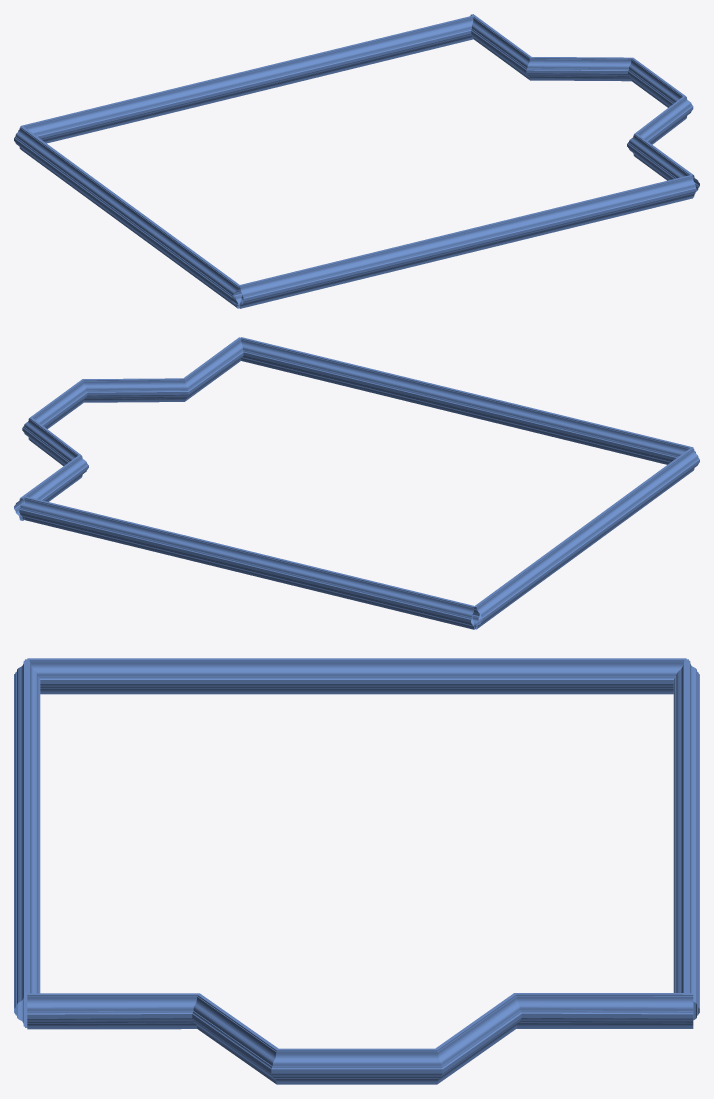
File: Cornice.obj
3 renders of one model, top to bottom at view 1: azimuth 30°, elevation 25°; view 2: azimuth 150°, elevation 25°; view 3: azimuth 270°, elevation 25°, orthographic. The views are drawn at different scales.
Visible parts, largest first — view 1: object 2; view 2: object 2; view 3: object 2.
Boxes of the visible parts, x1,y1,x2,y2 form: object 2: (14,14,699,308); object 2: (14,337,699,629); object 2: (14,658,699,1084).
Bounding box in the file's own units: 14.37 × 0.5714 × 10.4.
